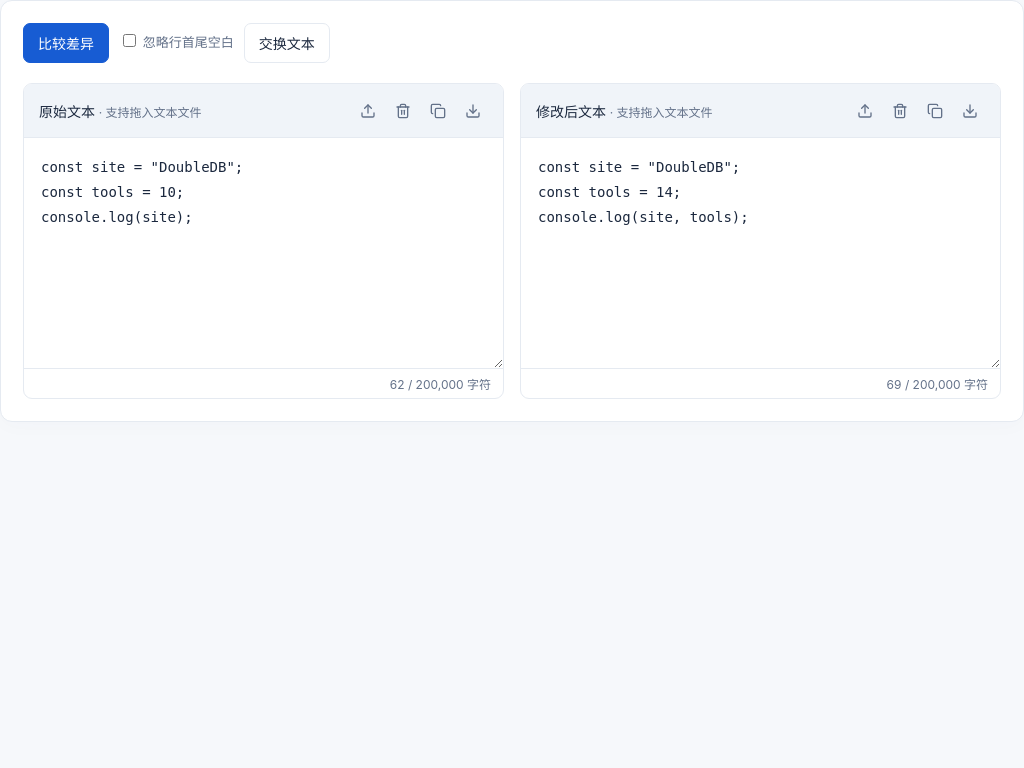
Test: diff marks additions and removals
The width and height of the screenshot is (1024, 768).
Click the button "比较差异".
click(66, 43)  # box [23,23,109,63]
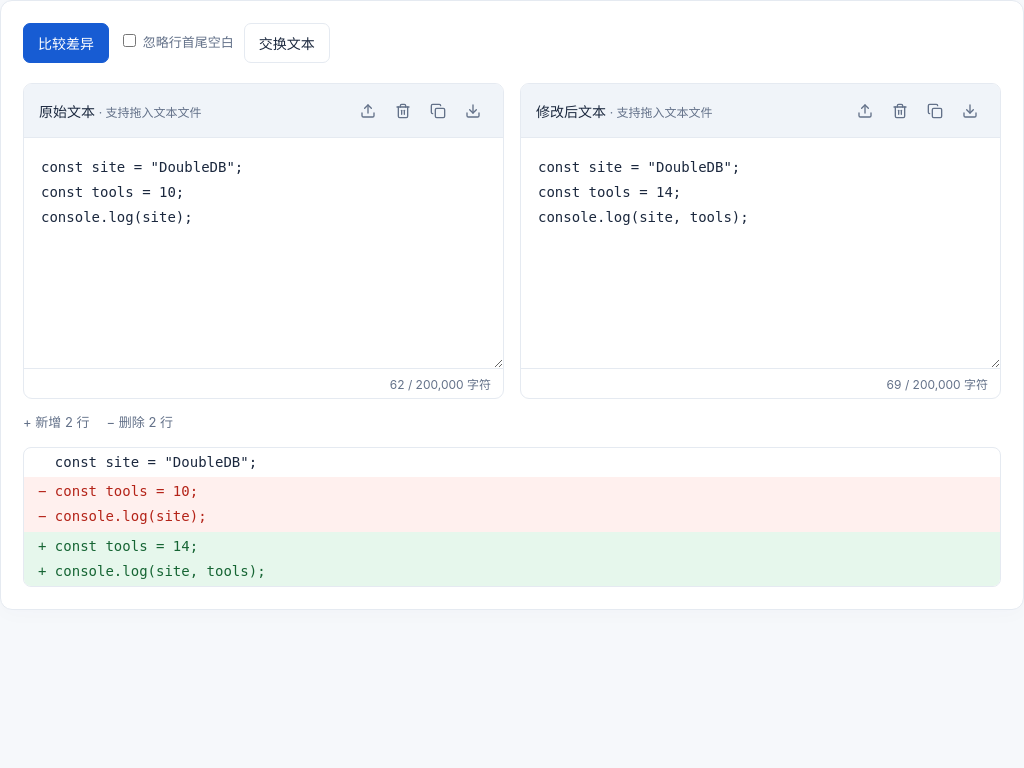
Now the text "+ const tools = 14; + console.log(site, tools);" is shown, box [24,532,1000,586]
Now the text "− const tools = 10; − console.log(site);" is shown, box [24,477,1000,532]
